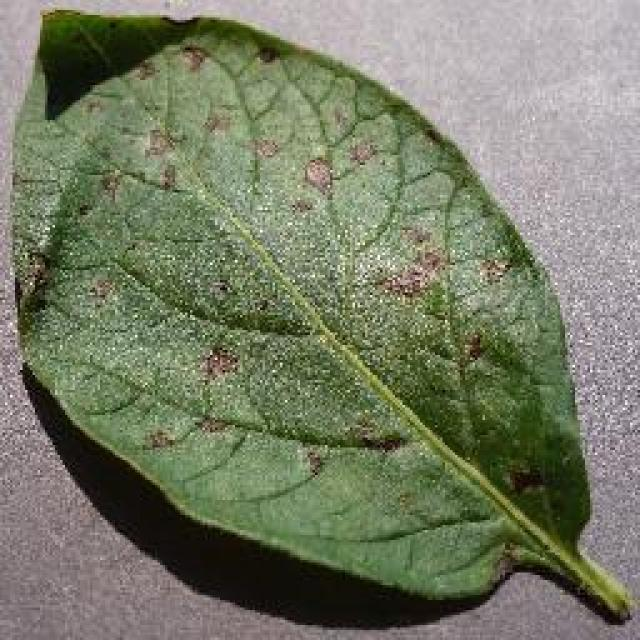early_blight: (5, 3, 637, 625)
